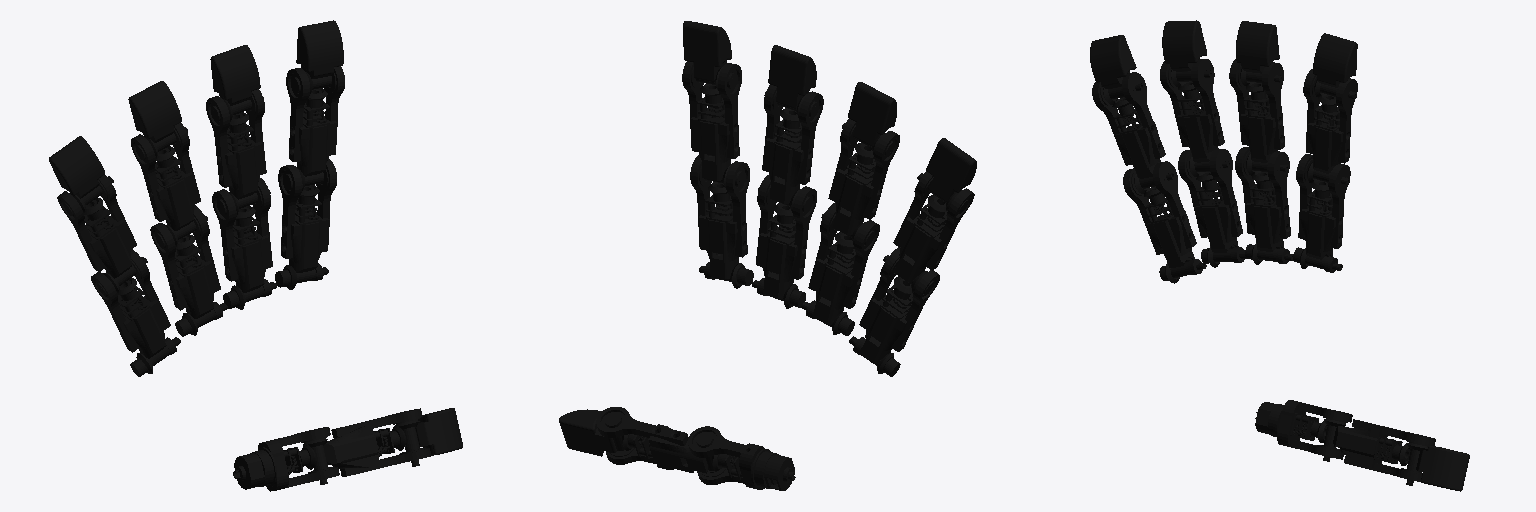
The robot description file, URDF, robot "robot_hand":
<robot
  name="robot_hand">
  <link
    name="base_link">
    <inertial>
      <origin
        xyz="0.0164272979781406 -0.0675518942695827 0.0556561961575469"
        rpy="0 0 0" />
      <mass
        value="0.14281298636939" />
      <inertia
        ixx="0.000100632295359615"
        ixy="-4.5903656555662E-09"
        ixz="-9.26684627395011E-06"
        iyy="0.000116157157578438"
        iyz="-7.27291687257889E-08"
        izz="4.78331243065085E-05" />
    </inertial>
    <visual>
      <origin
        xyz="0 0 0"
        rpy="0 0 0" />
      <geometry>
        <mesh
          filename="package://robot_hand/meshes/base_link.STL" />
      </geometry>
      <material
        name="">
        <color
          rgba="0.792156862745098 0.819607843137255 0.933333333333333 1" />
      </material>
    </visual>
    <collision>
      <origin
        xyz="0 0 0"
        rpy="0 0 0" />
      <geometry>
        <mesh
          filename="package://robot_hand/meshes/base_link.STL" />
      </geometry>
    </collision>
  </link>
  <link
    name="thumb_meta">
    <inertial>
      <origin
        xyz="1.99885584305989E-05 0.0274753594946916 3.11523535328484E-05"
        rpy="0 0 0" />
      <mass
        value="0.0120616204231855" />
      <inertia
        ixx="1.7460191222039E-06"
        ixy="-6.03789807022666E-09"
        ixz="5.80816723565843E-10"
        iyy="4.0136432471172E-07"
        iyz="7.34091845896701E-09"
        izz="2.14539224199729E-06" />
    </inertial>
    <visual>
      <origin
        xyz="0 0 0"
        rpy="0 0 0" />
      <geometry>
        <mesh
          filename="package://robot_hand/meshes/thumb_meta.STL" />
      </geometry>
      <material
        name="">
        <color
          rgba="0.109803921568627 0.109803921568627 0.109803921568627 1" />
      </material>
    </visual>
    <collision>
      <origin
        xyz="0 0 0"
        rpy="0 0 0" />
      <geometry>
        <mesh
          filename="package://robot_hand/meshes/thumb_meta.STL" />
      </geometry>
    </collision>
  </link>
  <joint
    name="base_to_thumb"
    type="continuous">
    <origin
      xyz="0.023209760005139 -0.0675469356726254 0.0198747840085588"
      rpy="0 1.12023021500415 -1.5707963267949" />
    <parent
      link="base_link" />
    <child
      link="thumb_meta" />
    <axis
      xyz="0 1 0" />
  </joint>
  <link
    name="thumb_prox">
    <inertial>
      <origin
        xyz="-0.000449137414202359 0.00281889057671922 0.0204189792251896"
        rpy="0 0 0" />
      <mass
        value="0.020260722308439" />
      <inertia
        ixx="7.9783229274071E-06"
        ixy="6.8286819219236E-08"
        ixz="4.98818790855009E-07"
        iyy="8.43721124953614E-06"
        iyz="-1.09107553246242E-06"
        izz="7.65218779158461E-07" />
    </inertial>
    <visual>
      <origin
        xyz="0 0 0"
        rpy="0 0 0" />
      <geometry>
        <mesh
          filename="package://robot_hand/meshes/thumb_prox.STL" />
      </geometry>
      <material
        name="">
        <color
          rgba="0.109803921568627 0.109803921568627 0.109803921568627 1" />
      </material>
    </visual>
    <collision>
      <origin
        xyz="0 0 0"
        rpy="0 0 0" />
      <geometry>
        <mesh
          filename="package://robot_hand/meshes/thumb_prox.STL" />
      </geometry>
    </collision>
  </link>
  <joint
    name="thumb_meta-to_prox"
    type="continuous">
    <origin
      xyz="0 0.0410000000000158 0"
      rpy="1.70910549048477 -4.44089209850063E-16 3.14159265358979" />
    <parent
      link="thumb_meta" />
    <child
      link="thumb_prox" />
    <axis
      xyz="1 0 0" />
  </joint>
  <link
    name="thumb_distal">
    <inertial>
      <origin
        xyz="-0.000335915520324186 -0.000443497516786309 0.0051389184652683"
        rpy="0 0 0" />
      <mass
        value="0.0127860283028938" />
      <inertia
        ixx="6.53141198240906E-07"
        ixy="-9.87728094235956E-09"
        ixz="1.14381892134271E-07"
        iyy="8.5225261602867E-07"
        iyz="5.58496167022505E-08"
        izz="2.08733620214757E-07" />
    </inertial>
    <visual>
      <origin
        xyz="0 0 0"
        rpy="0 0 0" />
      <geometry>
        <mesh
          filename="package://robot_hand/meshes/thumb_distal.STL" />
      </geometry>
      <material
        name="">
        <color
          rgba="0.109803921568627 0.109803921568627 0.109803921568627 1" />
      </material>
    </visual>
    <collision>
      <origin
        xyz="0 0 0"
        rpy="0 0 0" />
      <geometry>
        <mesh
          filename="package://robot_hand/meshes/thumb_distal.STL" />
      </geometry>
    </collision>
  </link>
  <joint
    name="thumb_prox_to_distal"
    type="continuous">
    <origin
      xyz="-0.0012499999999996 0.00682449682904725 0.0490273009967915"
      rpy="-0.172676557207175 4.16333634234434E-17 -1.66533453693774E-16" />
    <parent
      link="thumb_prox" />
    <child
      link="thumb_distal" />
    <axis
      xyz="1 0 0" />
  </joint>
  <link
    name="index_prox">
    <inertial>
      <origin
        xyz="-0.0120817134796648 -0.00177389209615812 0.0205361652865563"
        rpy="0 0 0" />
      <mass
        value="0.0202607259479882" />
      <inertia
        ixx="7.97832329001957E-06"
        ixy="-4.38967677415159E-08"
        ixz="5.01554024249991E-07"
        iyy="8.53214943690333E-06"
        iyz="6.73105107789674E-07"
        izz="6.70280982982607E-07" />
    </inertial>
    <visual>
      <origin
        xyz="0 0 0"
        rpy="0 0 0" />
      <geometry>
        <mesh
          filename="package://robot_hand/meshes/index_prox.STL" />
      </geometry>
      <material
        name="">
        <color
          rgba="0.109803921568627 0.109803921568627 0.109803921568627 1" />
      </material>
    </visual>
    <collision>
      <origin
        xyz="0 0 0"
        rpy="0 0 0" />
      <geometry>
        <mesh
          filename="package://robot_hand/meshes/index_prox.STL" />
      </geometry>
    </collision>
  </link>
  <joint
    name="base_to_index_prox"
    type="continuous">
    <origin
      xyz="0.0430394305626957 -0.0675469356726246 0.115899238494095"
      rpy="-0.0850412363358453 -0.0482191995046227 3.14159265358979" />
    <parent
      link="base_link" />
    <child
      link="index_prox" />
    <axis
      xyz="-1 0 0" />
  </joint>
  <link
    name="index_inter">
    <inertial>
      <origin
        xyz="-0.0120817134796648 -0.00195068400219015 0.0205201269433008"
        rpy="0 0 0" />
      <mass
        value="0.0202607259479882" />
      <inertia
        ixx="7.97832329001963E-06"
        ixy="-4.82145288357367E-08"
        ixz="5.01157385128339E-07"
        iyy="8.51997319999043E-06"
        iyz="7.40709253527139E-07"
        izz="6.82457219895577E-07" />
    </inertial>
    <visual>
      <origin
        xyz="0 0 0"
        rpy="0 0 0" />
      <geometry>
        <mesh
          filename="package://robot_hand/meshes/index_inter.STL" />
      </geometry>
      <material
        name="">
        <color
          rgba="0.109803921568627 0.109803921568627 0.109803921568627 1" />
      </material>
    </visual>
    <collision>
      <origin
        xyz="0 0 0"
        rpy="0 0 0" />
      <geometry>
        <mesh
          filename="package://robot_hand/meshes/index_inter.STL" />
      </geometry>
    </collision>
  </link>
  <joint
    name="index_prox_to_index"
    type="continuous">
    <origin
      xyz="-0.00189999999999996 -0.0042044691243778 0.0493211155528965"
      rpy="-0.00861211783755902 -1.37416002971832E-15 9.26571608327422E-16" />
    <parent
      link="index_prox" />
    <child
      link="index_inter" />
    <axis
      xyz="-1 0 0" />
  </joint>
  <link
    name="intex_distal">
    <inertial>
      <origin
        xyz="-0.00033591458143753 -0.0010166852838673 0.00505682969574417"
        rpy="0 0 0" />
      <mass
        value="0.0127860295235071" />
      <inertia
        ixx="6.53141179122823E-07"
        ixy="-2.26352506720117E-08"
        ixz="1.12554150706604E-07"
        iyy="8.31727721402549E-07"
        iyz="1.2611905107442E-07"
        izz="2.29258359886383E-07" />
    </inertial>
    <visual>
      <origin
        xyz="0 0 0"
        rpy="0 0 0" />
      <geometry>
        <mesh
          filename="package://robot_hand/meshes/intex_distal.STL" />
      </geometry>
      <material
        name="">
        <color
          rgba="0.109803921568627 0.109803921568627 0.109803921568627 1" />
      </material>
    </visual>
    <collision>
      <origin
        xyz="0 0 0"
        rpy="0 0 0" />
      <geometry>
        <mesh
          filename="package://robot_hand/meshes/intex_distal.STL" />
      </geometry>
    </collision>
  </link>
  <joint
    name="index_inter-to_distal"
    type="continuous">
    <origin
      xyz="-0.0128825753269277 -0.00462906721401417 0.0492830775898601"
      rpy="-0.0530324435976612 2.15451902889326E-16 -1.01664064230092E-15" />
    <parent
      link="index_inter" />
    <child
      link="intex_distal" />
    <axis
      xyz="-1 0 0" />
  </joint>
  <link
    name="middle_meta">
    <inertial>
      <origin
        xyz="-0.0173913863584757 -0.000690176457264866 0.0206010828152516"
        rpy="0 0 0" />
      <mass
        value="0.0202607167654461" />
      <inertia
        ixx="7.97832252646653E-06"
        ixy="-1.74284031264954E-08"
        ixz="5.03169497987906E-07"
        iyy="8.5811356311704E-06"
        iyz="2.56009795739251E-07"
        izz="6.21293848875016E-07" />
    </inertial>
    <visual>
      <origin
        xyz="0 0 0"
        rpy="0 0 0" />
      <geometry>
        <mesh
          filename="package://robot_hand/meshes/middle_meta.STL" />
      </geometry>
      <material
        name="">
        <color
          rgba="0.109803921568627 0.109803921568627 0.109803921568627 1" />
      </material>
    </visual>
    <collision>
      <origin
        xyz="0 0 0"
        rpy="0 0 0" />
      <geometry>
        <mesh
          filename="package://robot_hand/meshes/middle_meta.STL" />
      </geometry>
    </collision>
  </link>
  <joint
    name="base_to_middle_meta"
    type="continuous">
    <origin
      xyz="0.00961521575359546 -0.0675469356726983 0.110474804575612"
      rpy="-0.0323655898320463 0.107403493214136 -3.14159265358979" />
    <parent
      link="base_link" />
    <child
      link="middle_meta" />
    <axis
      xyz="-1 0 0" />
  </joint>
  <link
    name="middle_inter">
    <inertial>
      <origin
        xyz="-0.0173971798384416 -0.000794678248758784 0.0205973164073158"
        rpy="0 0 0" />
      <mass
        value="0.0202607167654461" />
      <inertia
        ixx="7.97832252646656E-06"
        ixy="-1.9980791417863E-08"
        ixz="5.03074607702738E-07"
        iyy="8.57833330036107E-06"
        iyz="2.96376909223096E-07"
        izz="6.24096179684374E-07" />
    </inertial>
    <visual>
      <origin
        xyz="0 0 0"
        rpy="0 0 0" />
      <geometry>
        <mesh
          filename="package://robot_hand/meshes/middle_inter.STL" />
      </geometry>
      <material
        name="">
        <color
          rgba="0.109803921568627 0.109803921568627 0.109803921568627 1" />
      </material>
    </visual>
    <collision>
      <origin
        xyz="0 0 0"
        rpy="0 0 0" />
      <geometry>
        <mesh
          filename="package://robot_hand/meshes/middle_inter.STL" />
      </geometry>
    </collision>
  </link>
  <joint
    name="middle_meta_to_inter"
    type="continuous">
    <origin
      xyz="-0.00189420652003413 -0.00160181700364233 0.049474075860889"
      rpy="-0.00507308873233846 9.44307962065379E-18 1.17022062389914E-16" />
    <parent
      link="middle_meta" />
    <child
      link="middle_inter" />
    <axis
      xyz="-1 0 0" />
  </joint>
  <link
    name="middle_distal">
    <inertial>
      <origin
        xyz="-0.000335916838848455 -0.00164736401403188 0.00488787904260987"
        rpy="0 0 0" />
      <mass
        value="0.0127860268845584" />
      <inertia
        ixx="6.5314122686302E-07"
        ixy="-3.66727220951818E-08"
        ixz="1.08792815953943E-07"
        iyy="7.9050341214905E-07"
        iyz="1.97593180838315E-07"
        izz="2.70483034040622E-07" />
    </inertial>
    <visual>
      <origin
        xyz="0 0 0"
        rpy="0 0 0" />
      <geometry>
        <mesh
          filename="package://robot_hand/meshes/middle_distal.STL" />
      </geometry>
      <material
        name="">
        <color
          rgba="0.109803921568627 0.109803921568627 0.109803921568627 1" />
      </material>
    </visual>
    <collision>
      <origin
        xyz="0 0 0"
        rpy="0 0 0" />
      <geometry>
        <mesh
          filename="package://robot_hand/meshes/middle_distal.STL" />
      </geometry>
    </collision>
  </link>
  <joint
    name="middle_inter_to_distal"
    type="continuous">
    <origin
      xyz="-0.0181980445152236 -0.00185278169146923 0.0494653130992194"
      rpy="-0.235914516755523 -6.17271301555589E-17 -3.43331807488477E-16" />
    <parent
      link="middle_inter" />
    <child
      link="middle_distal" />
    <axis
      xyz="-1 0 0" />
  </joint>
  <link
    name="ring_meta">
    <inertial>
      <origin
        xyz="-0.00109913324943947 -2.31653715686286E-05 0.0206126282377423"
        rpy="0 0 0" />
      <mass
        value="0.0202607149076667" />
      <inertia
        ixx="7.97832241343934E-06"
        ixy="-1.13673663554558E-09"
        ixz="5.03470161167436E-07"
        iyy="8.58936039319319E-06"
        iyz="-1.97149061026324E-09"
        izz="6.13068782081611E-07" />
    </inertial>
    <visual>
      <origin
        xyz="0 0 0"
        rpy="0 0 0" />
      <geometry>
        <mesh
          filename="package://robot_hand/meshes/ring_meta.STL" />
      </geometry>
      <material
        name="">
        <color
          rgba="0.109803921568627 0.109803921568627 0.109803921568627 1" />
      </material>
    </visual>
    <collision>
      <origin
        xyz="0 0 0"
        rpy="0 0 0" />
      <geometry>
        <mesh
          filename="package://robot_hand/meshes/ring_meta.STL" />
      </geometry>
    </collision>
  </link>
  <joint
    name="base_to_ring_meta"
    type="continuous">
    <origin
      xyz="-0.000392230553524161 -0.0675469356726255 0.105304873694655"
      rpy="6.33247618567228E-17 0.257909265986257 -3.14159265358979" />
    <parent
      link="base_link" />
    <child
      link="ring_meta" />
    <axis
      xyz="-1 0 0" />
  </joint>
  <link
    name="ring_inter">
    <inertial>
      <origin
        xyz="-0.00109913324943943 -2.31653715686009E-05 0.0206126282377423"
        rpy="0 0 0" />
      <mass
        value="0.0202607149076667" />
      <inertia
        ixx="7.97832241343938E-06"
        ixy="-1.13673663555871E-09"
        ixz="5.0347016116744E-07"
        iyy="8.58936039319323E-06"
        iyz="-1.97149061022184E-09"
        izz="6.13068782081612E-07" />
    </inertial>
    <visual>
      <origin
        xyz="0 0 0"
        rpy="0 0 0" />
      <geometry>
        <mesh
          filename="package://robot_hand/meshes/ring_inter.STL" />
      </geometry>
      <material
        name="">
        <color
          rgba="0.109803921568627 0.109803921568627 0.109803921568627 1" />
      </material>
    </visual>
    <collision>
      <origin
        xyz="0 0 0"
        rpy="0 0 0" />
      <geometry>
        <mesh
          filename="package://robot_hand/meshes/ring_inter.STL" />
      </geometry>
    </collision>
  </link>
  <joint
    name="ring_meta_to_inter"
    type="continuous">
    <origin
      xyz="-0.00190000000000003 0 0.0495000000000005"
      rpy="4.83938163432171E-17 -1.41553435639707E-15 -1.83459949399512E-16" />
    <parent
      link="ring_meta" />
    <child
      link="ring_inter" />
    <axis
      xyz="-1 0 0" />
  </joint>
  <link
    name="ring_distal">
    <inertial>
      <origin
        xyz="-0.000335917436891146 -0.000266659361070079 0.00515112251787267"
        rpy="0 0 0" />
      <mass
        value="0.0127860270383404" />
      <inertia
        ixx="6.53141180612656E-07"
        ixy="-5.9412193060581E-09"
        ixz="1.1465372428524E-07"
        iyy="8.55328734775288E-07"
        iyz="3.36190930868183E-08"
        izz="2.05657725719688E-07" />
    </inertial>
    <visual>
      <origin
        xyz="0 0 0"
        rpy="0 0 0" />
      <geometry>
        <mesh
          filename="package://robot_hand/meshes/ring_distal.STL" />
      </geometry>
      <material
        name="">
        <color
          rgba="0.109803921568627 0.109803921568627 0.109803921568627 1" />
      </material>
    </visual>
    <collision>
      <origin
        xyz="0 0 0"
        rpy="0 0 0" />
      <geometry>
        <mesh
          filename="package://robot_hand/meshes/ring_distal.STL" />
      </geometry>
    </collision>
  </link>
  <joint
    name="ring_inter_to_distal"
    type="continuous">
    <origin
      xyz="-0.00189999999999993 0 0.0495"
      rpy="4.42457749423697E-17 2.72004641033163E-15 -1.67734810879554E-16" />
    <parent
      link="ring_inter" />
    <child
      link="ring_distal" />
    <axis
      xyz="-1 0 0" />
  </joint>
  <link
    name="little_meta">
    <inertial>
      <origin
        xyz="-0.00109913288625504 -2.31653874672305E-05 0.0206126262145461"
        rpy="0 0 0" />
      <mass
        value="0.0202607179065249" />
      <inertia
        ixx="7.9783228320733E-06"
        ixy="-1.13673809874364E-09"
        ixz="5.03470378976128E-07"
        iyy="8.58936077221107E-06"
        iyz="-1.9715018292291E-09"
        izz="6.13068742207942E-07" />
    </inertial>
    <visual>
      <origin
        xyz="0 0 0"
        rpy="0 0 0" />
      <geometry>
        <mesh
          filename="package://robot_hand/meshes/little_meta.STL" />
      </geometry>
      <material
        name="">
        <color
          rgba="0.109803921568627 0.109803921568627 0.109803921568627 1" />
      </material>
    </visual>
    <collision>
      <origin
        xyz="0 0 0"
        rpy="0 0 0" />
      <geometry>
        <mesh
          filename="package://robot_hand/meshes/little_meta.STL" />
      </geometry>
    </collision>
  </link>
  <joint
    name="base_to_little_meta"
    type="continuous">
    <origin
      xyz="-0.0251928947057216 -0.0675469356726257 0.0913298621459225"
      rpy="6.69719326685317E-17 0.417098184878605 -3.14159265358979" />
    <parent
      link="base_link" />
    <child
      link="little_meta" />
    <axis
      xyz="-1 0 0" />
  </joint>
  <link
    name="little_inter">
    <inertial>
      <origin
        xyz="-0.00109913288625512 -2.3165387467064E-05 0.020612626214546"
        rpy="0 0 0" />
      <mass
        value="0.0202607179065249" />
      <inertia
        ixx="7.97832283207337E-06"
        ixy="-1.13673809877771E-09"
        ixz="5.03470378976084E-07"
        iyy="8.58936077221111E-06"
        iyz="-1.97150182913547E-09"
        izz="6.13068742207907E-07" />
    </inertial>
    <visual>
      <origin
        xyz="0 0 0"
        rpy="0 0 0" />
      <geometry>
        <mesh
          filename="package://robot_hand/meshes/little_inter.STL" />
      </geometry>
      <material
        name="">
        <color
          rgba="0.109803921568627 0.109803921568627 0.109803921568627 1" />
      </material>
    </visual>
    <collision>
      <origin
        xyz="0 0 0"
        rpy="0 0 0" />
      <geometry>
        <mesh
          filename="package://robot_hand/meshes/little_inter.STL" />
      </geometry>
    </collision>
  </link>
  <joint
    name="little_meta_to_inter"
    type="continuous">
    <origin
      xyz="-0.00189999999999962 0 0.0495000000000004"
      rpy="0 1.49880108324396E-15 0" />
    <parent
      link="little_meta" />
    <child
      link="little_inter" />
    <axis
      xyz="-1 0 0" />
  </joint>
  <link
    name="little_distal">
    <inertial>
      <origin
        xyz="-0.000335917008371128 -0.000266659312898571 0.0051511227649747"
        rpy="0 0 0" />
      <mass
        value="0.0127860289230139" />
      <inertia
        ixx="6.53141111959307E-07"
        ixy="-5.94122418107104E-09"
        ixz="1.1465384594785E-07"
        iyy="8.55328618632972E-07"
        iyz="3.36190826072882E-08"
        izz="2.05657676428166E-07" />
    </inertial>
    <visual>
      <origin
        xyz="0 0 0"
        rpy="0 0 0" />
      <geometry>
        <mesh
          filename="package://robot_hand/meshes/little_distal.STL" />
      </geometry>
      <material
        name="">
        <color
          rgba="0.109803921568627 0.109803921568627 0.109803921568627 1" />
      </material>
    </visual>
    <collision>
      <origin
        xyz="0 0 0"
        rpy="0 0 0" />
      <geometry>
        <mesh
          filename="package://robot_hand/meshes/little_distal.STL" />
      </geometry>
    </collision>
  </link>
  <joint
    name="little_inter_to_distal"
    type="continuous">
    <origin
      xyz="-0.00189999999999997 0 0.0495"
      rpy="0 0 0" />
    <parent
      link="little_inter" />
    <child
      link="little_distal" />
    <axis
      xyz="-1 0 0" />
  </joint>
</robot>

--- Render facts (derived) ---
3 views of the same robot in one strip: view 1: azimuth 30°, elevation 25°; view 2: azimuth 150°, elevation 25°; view 3: azimuth 330°, elevation 25° (orthographic).
Robot: robot_hand — 16 links, 15 joints (15 continuous); root link base_link; default pose: all joints at 0.
Links seen in each view (by area): view 1: index_prox, middle_meta, ring_meta, index_inter, little_meta, middle_inter, ring_inter, thumb_prox, little_inter, thumb_meta, intex_distal, middle_distal (+3 smaller); view 2: index_prox, middle_meta, ring_meta, index_inter, little_meta, middle_inter, ring_inter, little_inter, thumb_prox, thumb_meta, intex_distal, middle_distal (+3 smaller); view 3: little_meta, ring_meta, middle_meta, index_prox, little_inter, ring_inter, middle_inter, index_inter, thumb_prox, thumb_meta, intex_distal, middle_distal (+3 smaller).
Boxes of the visible links, x1=… form: index_prox: x1=275, y1=158, x2=336, y2=289; middle_meta: x1=212, y1=177, x2=276, y2=309; ring_meta: x1=150, y1=205, x2=227, y2=336; index_inter: x1=283, y1=66, x2=344, y2=190; little_meta: x1=91, y1=249, x2=180, y2=376; middle_inter: x1=206, y1=89, x2=270, y2=215; ring_inter: x1=131, y1=123, x2=207, y2=248; thumb_prox: x1=303, y1=408, x2=431, y2=484; little_inter: x1=57, y1=175, x2=147, y2=296; thumb_meta: x1=233, y1=427, x2=339, y2=491; intex_distal: x1=291, y1=20, x2=343, y2=93; middle_distal: x1=210, y1=45, x2=263, y2=121; index_prox: x1=690, y1=155, x2=753, y2=288; middle_meta: x1=752, y1=174, x2=816, y2=308; ring_meta: x1=801, y1=202, x2=879, y2=335; index_inter: x1=682, y1=62, x2=745, y2=187; little_meta: x1=849, y1=247, x2=939, y2=376; middle_inter: x1=758, y1=85, x2=823, y2=212; ring_inter: x1=821, y1=119, x2=899, y2=246; little_inter: x1=883, y1=171, x2=974, y2=295; thumb_prox: x1=596, y1=407, x2=716, y2=473; thumb_meta: x1=688, y1=426, x2=795, y2=490; intex_distal: x1=683, y1=21, x2=737, y2=89; middle_distal: x1=764, y1=45, x2=818, y2=117; little_meta: x1=1123, y1=161, x2=1206, y2=283; ring_meta: x1=1178, y1=149, x2=1246, y2=267; middle_meta: x1=1235, y1=147, x2=1292, y2=264; index_prox: x1=1293, y1=154, x2=1350, y2=272; little_inter: x1=1092, y1=72, x2=1175, y2=193; ring_inter: x1=1160, y1=59, x2=1230, y2=176; middle_inter: x1=1229, y1=59, x2=1288, y2=175; index_inter: x1=1303, y1=69, x2=1357, y2=184; thumb_prox: x1=1322, y1=410, x2=1435, y2=481; thumb_meta: x1=1255, y1=400, x2=1352, y2=459; intex_distal: x1=1313, y1=33, x2=1357, y2=99; middle_distal: x1=1236, y1=21, x2=1282, y2=85.
Size in the robot's own frame: 0.2214 by 0.0252 by 0.2379 metres.
Meshes: 16 distinct files referenced, 15 mesh visuals loaded (15 binary STL); not drawn: 1 (reference not matched to a file when rendering).